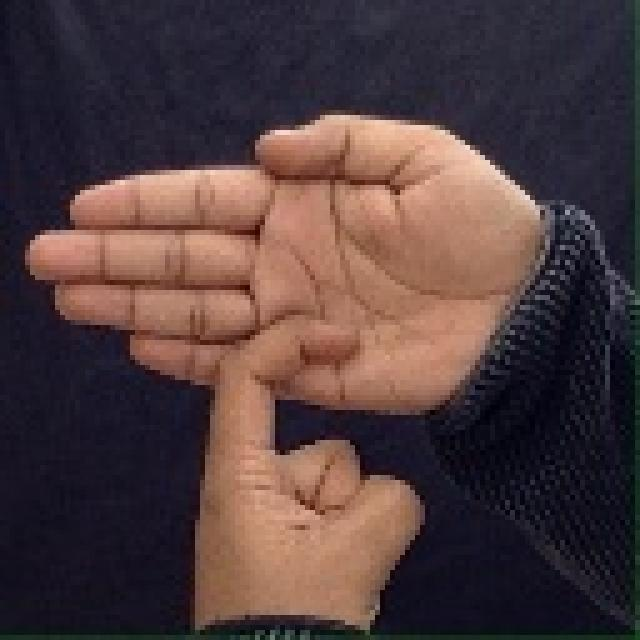R: (61, 97, 534, 612)
